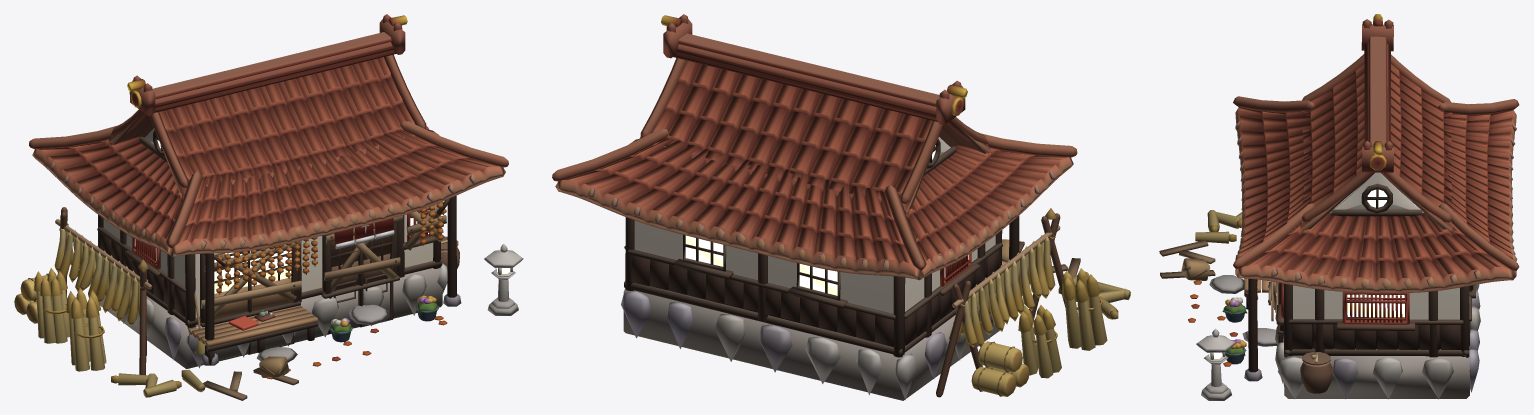
The model's file is zv-maple-elder.glb.
The picture shows the model from 3 angles, left to right: view 1: azimuth 30°, elevation 25°; view 2: azimuth 150°, elevation 25°; view 3: azimuth 270°, elevation 25°; orthographic projection. The views are drawn at different scales.
Visible parts, largest first — view 1: elder, siege, saved, window_glow; view 2: elder, saved, window_glow, siege; view 3: elder, siege, window_glow, saved.
Part boxes in pixels (x1,y1,x2,y2): elder: (29, 14, 523, 375); siege: (111, 201, 447, 400); saved: (14, 202, 443, 342); window_glow: (135, 140, 510, 293); elder: (552, 14, 1107, 400); saved: (971, 341, 1029, 396); window_glow: (685, 145, 968, 295); siege: (1002, 239, 1130, 319); elder: (1196, 14, 1519, 400); siege: (1159, 210, 1279, 366); window_glow: (1209, 189, 1404, 358); saved: (1222, 279, 1258, 364).
Bounding box in the file's own units: 6.9 × 4.23 × 5.39.
